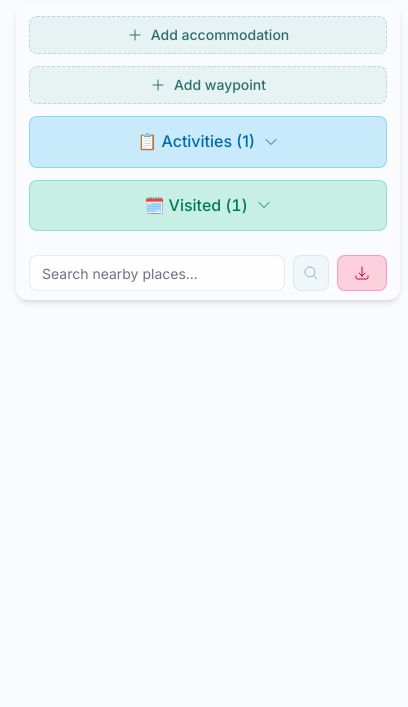
Test case: ActivitiesPanel planned/visited split › counts and lists only planned activities in the activities section
Click the button "📋 Activities (1)": (208, 142) [29,116,387,168]
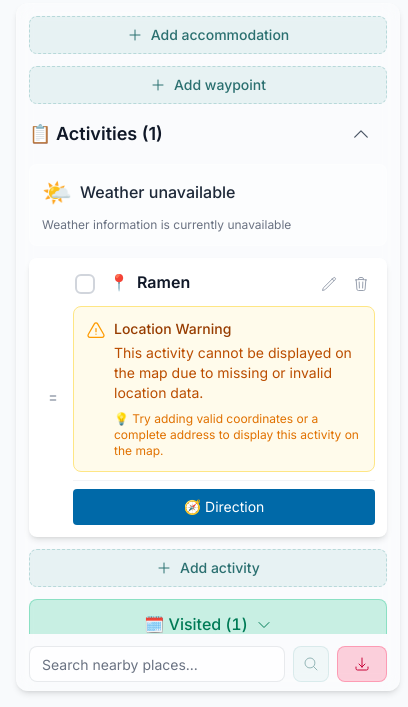
expect the element labelled "Ramen" is shown: met, box [29,258,387,537]
